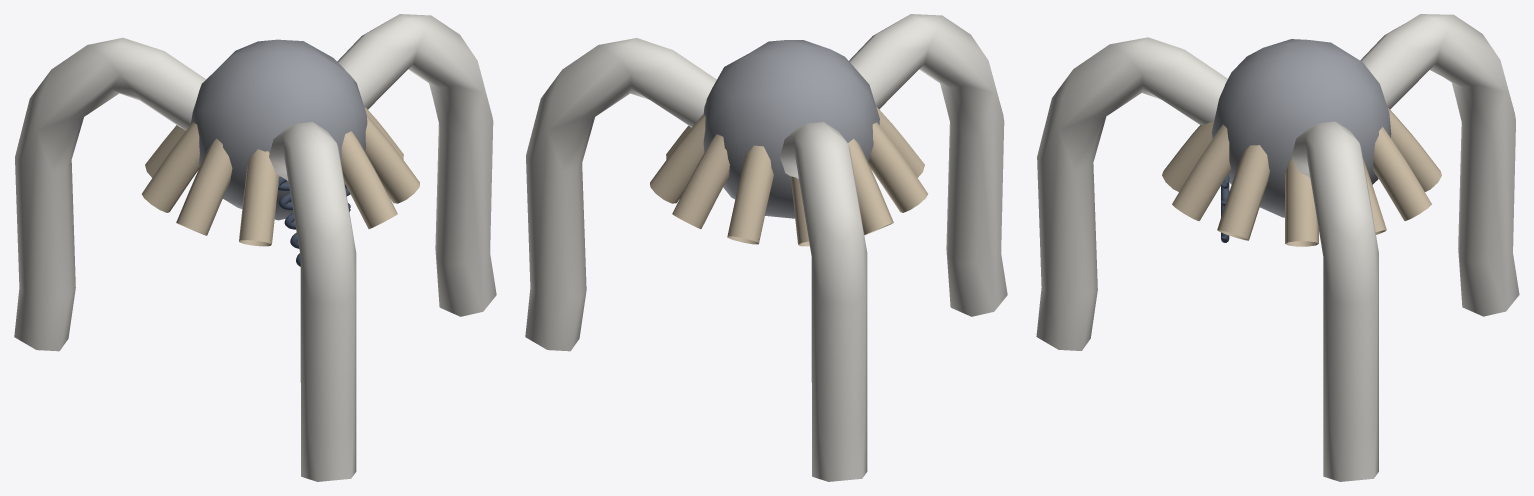
Rendered from bio_tripod_bell_06_far.glb.
3 renders of one model, left to right at view 1: azimuth 30°, elevation 25°; view 2: azimuth 150°, elevation 25°; view 3: azimuth 270°, elevation 25°, orthographic.
Visible parts, largest first — view 1: Arched tripod.001, Arched tripod, Arched tripod.002, Hanging bell core, Flared rib.007, Flared rib.006, Flared rib.009, Flared rib.005, Flared rib.010, Flared rib.004, Underside pressure folds; view 2: Arched tripod, Arched tripod.001, Arched tripod.002, Hanging bell core, Flared rib.003, Flared rib.002, Flared rib.006, Flared rib.001, Flared rib.005, Flared rib.007, Flared rib.004; view 3: Arched tripod.002, Arched tripod.001, Arched tripod, Hanging bell core, Flared rib.010, Flared rib.009, Flared rib.002, Flared rib, Flared rib.003, Flared rib.008, Flared rib.001.
Part boxes in pixels (x1=…): Arched tripod.001: x1=14, y1=37, x2=205, y2=351; Arched tripod: x1=337, y1=14, x2=496, y2=316; Arched tripod.002: x1=269, y1=122, x2=356, y2=481; Hanging bell core: x1=190, y1=39, x2=367, y2=220; Flared rib.007: x1=239, y1=149, x2=279, y2=246; Flared rib.006: x1=176, y1=138, x2=232, y2=235; Flared rib.009: x1=341, y1=131, x2=397, y2=228; Flared rib.005: x1=142, y1=122, x2=199, y2=212; Flared rib.010: x1=365, y1=115, x2=419, y2=203; Flared rib.004: x1=145, y1=125, x2=185, y2=177; Underside pressure folds: x1=278, y1=176, x2=350, y2=266; Arched tripod: x1=525, y1=38, x2=716, y2=351; Arched tripod.001: x1=779, y1=122, x2=867, y2=481; Arched tripod.002: x1=849, y1=14, x2=1007, y2=316; Hanging bell core: x1=703, y1=40, x2=879, y2=218; Flared rib.003: x1=727, y1=145, x2=773, y2=244; Flared rib.002: x1=672, y1=134, x2=729, y2=228; Flared rib.006: x1=868, y1=122, x2=927, y2=212; Flared rib.001: x1=650, y1=114, x2=705, y2=203; Flared rib.005: x1=848, y1=138, x2=893, y2=235; Flared rib.007: x1=876, y1=106, x2=924, y2=177; Flared rib.004: x1=790, y1=176, x2=809, y2=246; Arched tripod.002: x1=1036, y1=37, x2=1227, y2=350; Arched tripod.001: x1=1360, y1=14, x2=1519, y2=316; Arched tripod: x1=1291, y1=121, x2=1378, y2=481; Hanging bell core: x1=1211, y1=39, x2=1391, y2=217; Flared rib.010: x1=1217, y1=145, x2=1269, y2=240; Flared rib.009: x1=1172, y1=124, x2=1231, y2=220; Flared rib.002: x1=1373, y1=126, x2=1431, y2=220; Flared rib: x1=1285, y1=159, x2=1318, y2=246; Flared rib.003: x1=1387, y1=107, x2=1441, y2=191; Flared rib.008: x1=1162, y1=121, x2=1213, y2=191; Flared rib.001: x1=1363, y1=158, x2=1386, y2=234.
Size of the model in its own units: 2.49 by 1.93 by 2.57.
